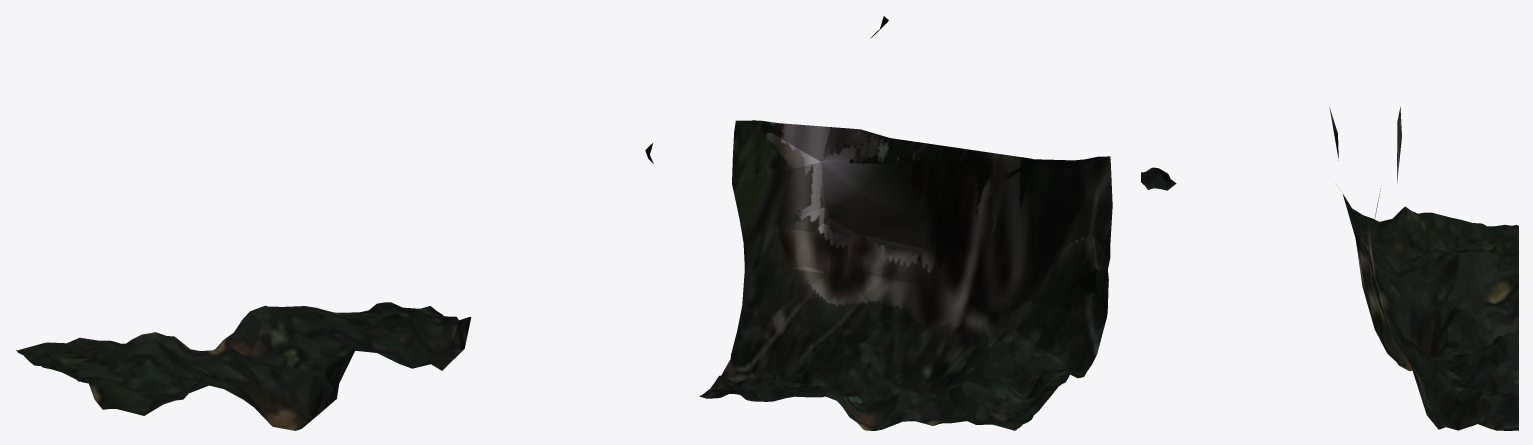
The picture shows the model from 3 angles, left to right: view 1: azimuth 30°, elevation 25°; view 2: azimuth 150°, elevation 25°; view 3: azimuth 270°, elevation 25°; orthographic projection. The views are drawn at different scales.
Size of the model in its own units: 0.8373 by 0.6753 by 0.8373.
Materials: 2 (2 with a texture image).
